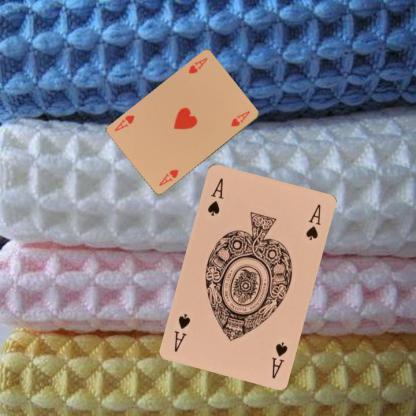Ah: (156, 166, 180, 186), (186, 54, 209, 74)
As: (204, 175, 224, 217), (269, 338, 289, 380)
